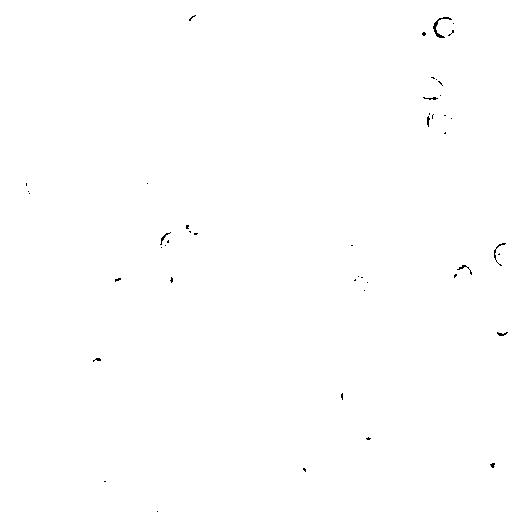micro-algae: (123, 30, 258, 167), (343, 307, 425, 393), (347, 43, 407, 103), (78, 253, 130, 303), (117, 406, 167, 456), (170, 426, 219, 469), (77, 0, 112, 37), (385, 284, 424, 316), (476, 449, 508, 482), (281, 435, 315, 465), (427, 105, 456, 137), (141, 241, 170, 267), (159, 230, 186, 257), (429, 15, 458, 39), (411, 19, 436, 46), (142, 174, 169, 199), (106, 487, 133, 512), (90, 51, 117, 75), (417, 75, 445, 98), (278, 287, 301, 313), (145, 387, 167, 414), (12, 18, 36, 42), (424, 260, 449, 283), (452, 263, 474, 289), (140, 494, 173, 511), (185, 57, 210, 79), (348, 272, 371, 295), (87, 477, 111, 498), (186, 11, 209, 32), (26, 173, 45, 198), (287, 459, 308, 481), (31, 441, 56, 459), (355, 254, 377, 274), (344, 241, 365, 261), (493, 317, 511, 340), (493, 242, 510, 266), (61, 133, 81, 152), (85, 357, 106, 375), (185, 218, 203, 237), (159, 270, 176, 289), (358, 435, 374, 452), (341, 386, 355, 405), (83, 234, 102, 247), (113, 277, 128, 293), (505, 214, 512, 237)
